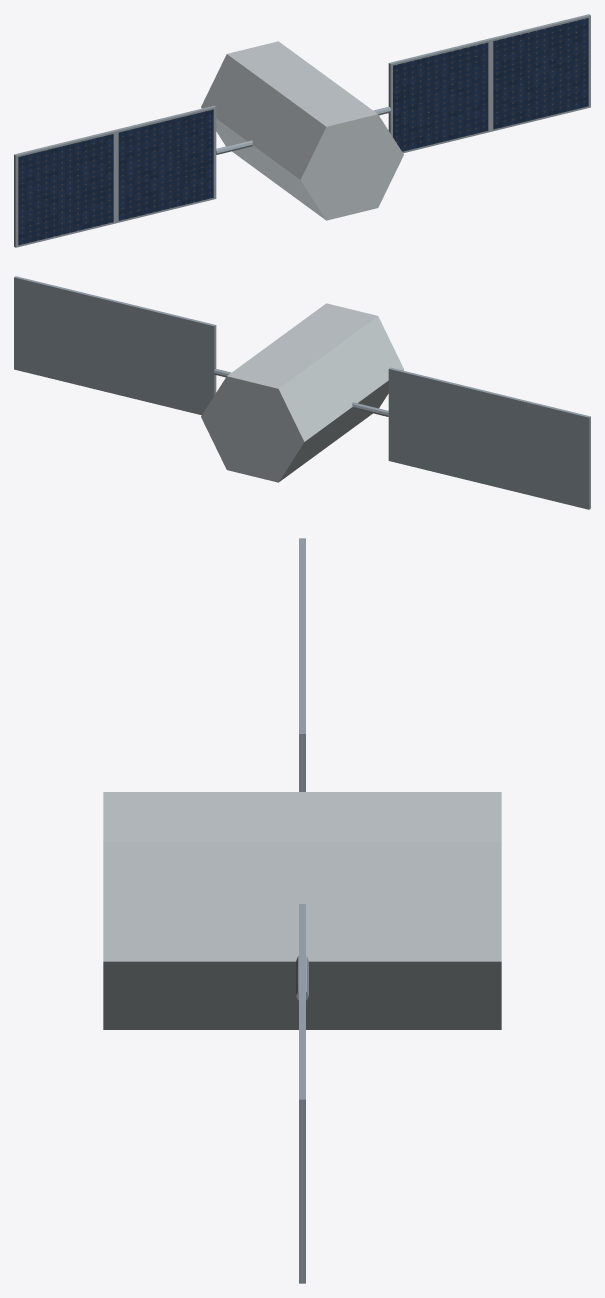
Rendered from ref-naos-65317.glb.
3 views of the same model, one above another, from view 1: azimuth 30°, elevation 25°; view 2: azimuth 150°, elevation 25°; view 3: azimuth 270°, elevation 25° (orthographic). The views are drawn at different scales.
Visible parts, largest first — view 1: Photovoltaic laminates (×4), Spacecraft body, Array frame (×4); view 2: Array frame (×4), Spacecraft body; view 3: Spacecraft body, Array frame (×2).
Part boxes in pixels (x1=…): Photovoltaic laminates (×4): x1=18, y1=18, x2=588, y2=245; Spacecraft body: x1=201, y1=41, x2=403, y2=220; Array frame (×4): x1=14, y1=14, x2=590, y2=247; Array frame (×4): x1=14, y1=276, x2=590, y2=509; Spacecraft body: x1=201, y1=303, x2=403, y2=482; Spacecraft body: x1=103, y1=792, x2=501, y2=1029; Array frame (×2): x1=299, y1=636, x2=305, y2=1283.
Size of the model in its own units: 10 by 1.56 by 3.
Materials: 3 (1 with a texture image).
